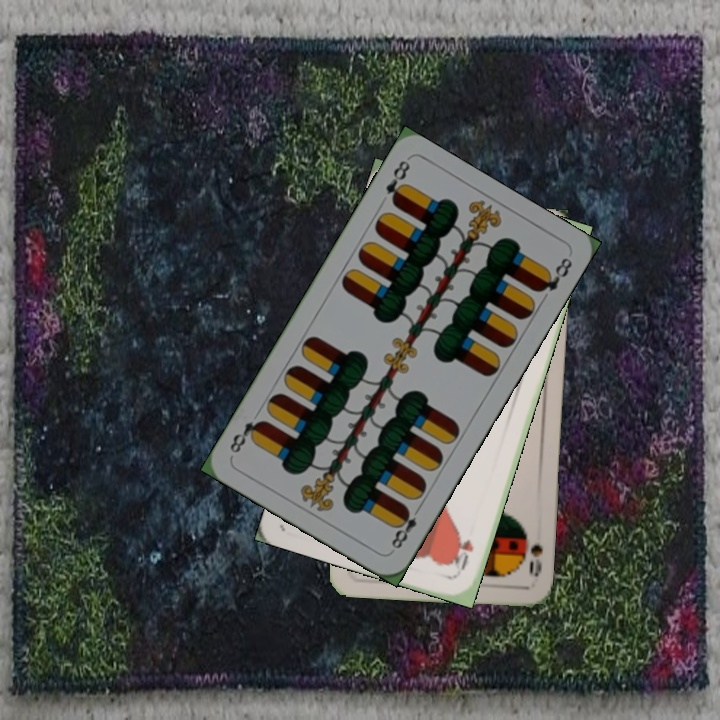E8: (387, 501, 424, 552), (381, 155, 413, 208)
HO: (450, 531, 476, 573)
SO: (525, 540, 546, 579)
